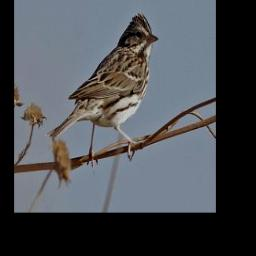Sparrow: (47, 12, 159, 170)
